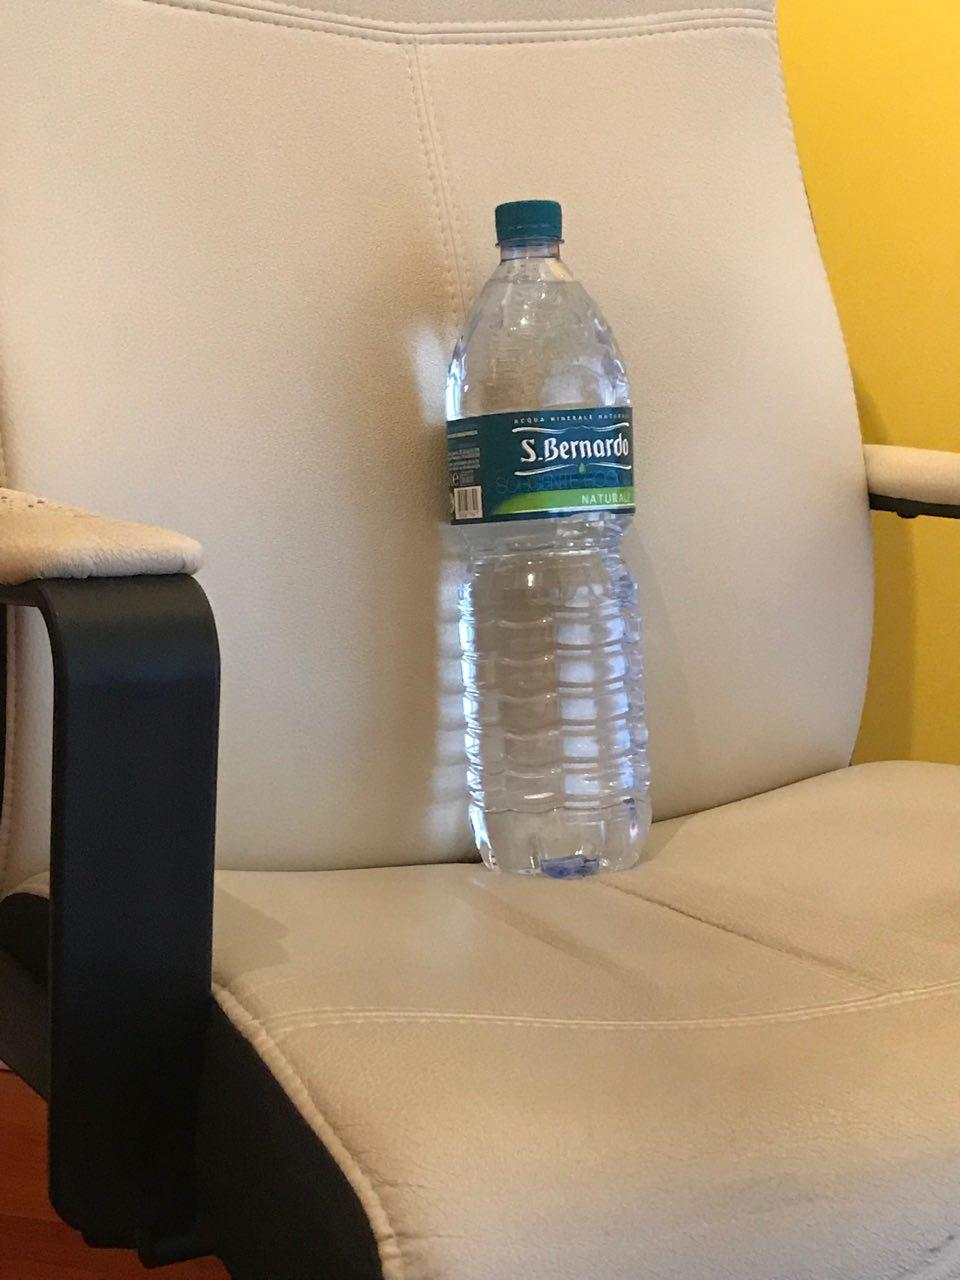san_bernardo: (442, 199, 653, 879)
